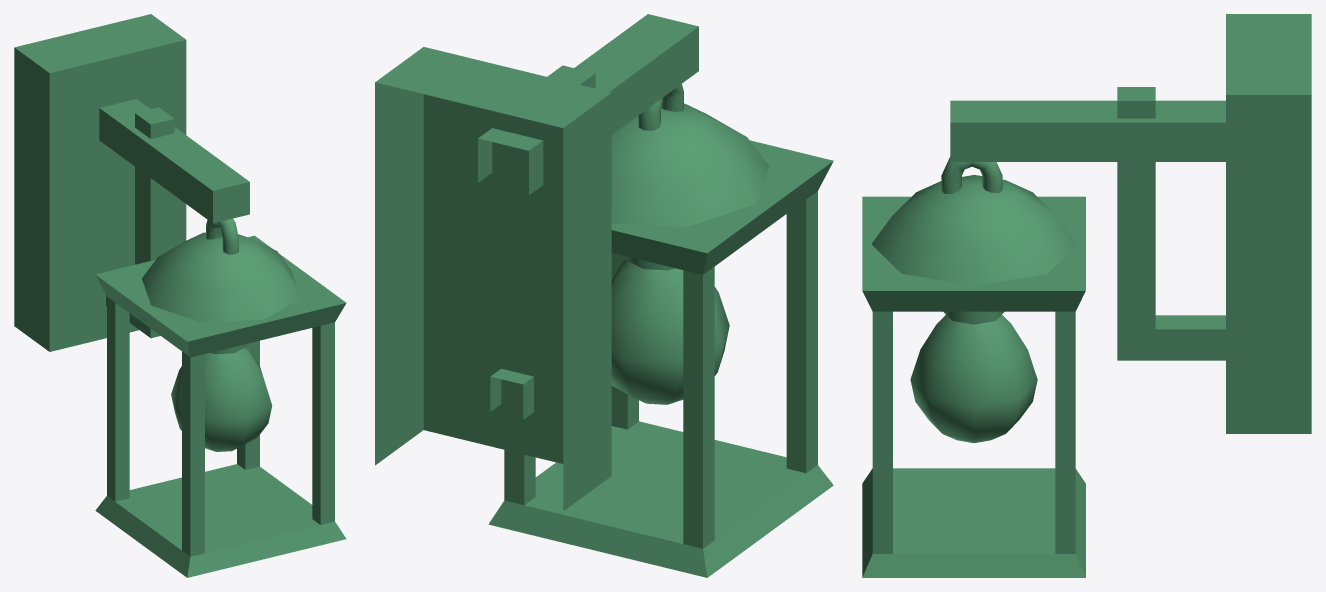
The model's file is Lantern_V3.fbx.
The picture shows the model from 3 angles, left to right: view 1: azimuth 30°, elevation 25°; view 2: azimuth 150°, elevation 25°; view 3: azimuth 270°, elevation 25°; orthographic projection. The views are drawn at different scales.
Parts seen in each view (by area): view 1: Lantern1; view 2: Lantern1; view 3: Lantern1.
Boxes of the visible parts, <box> form: Lantern1: <box>14,14,346,577</box>; Lantern1: <box>375,14,833,577</box>; Lantern1: <box>862,14,1311,577</box>.
Bounding box in the file's own units: 37.81 × 88.94 × 76.
